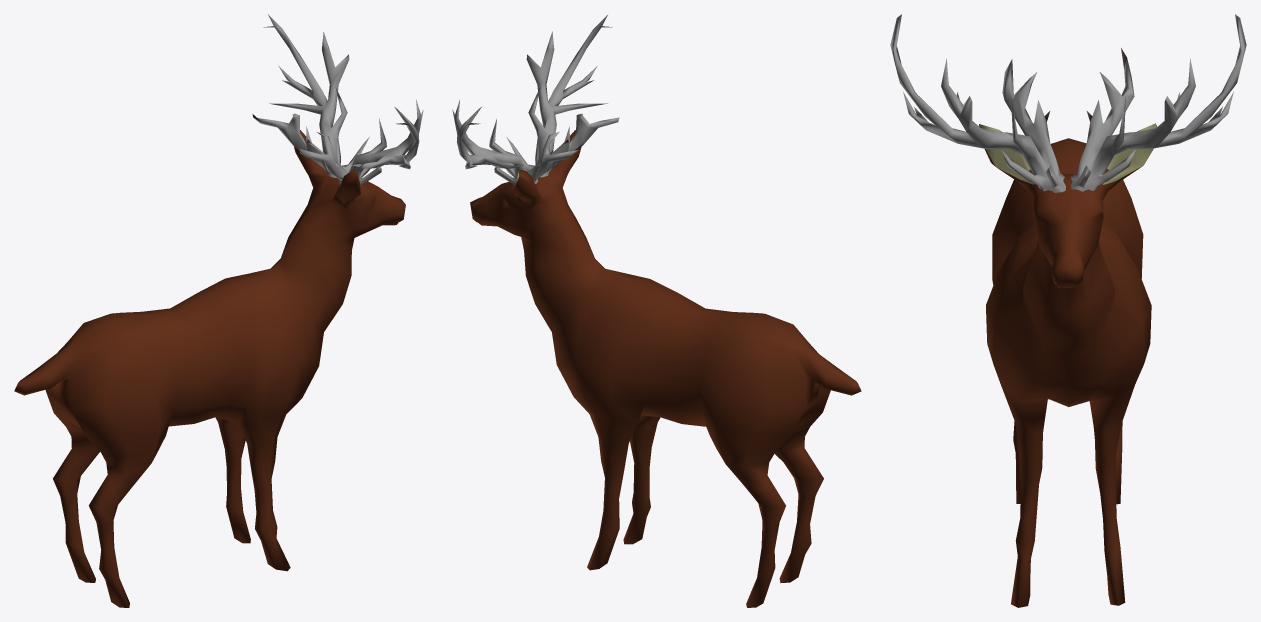
The model's file is deer.obj.
3 renders of one model, left to right at view 1: azimuth 30°, elevation 25°; view 2: azimuth 150°, elevation 25°; view 3: azimuth 270°, elevation 25°, orthographic. The views are drawn at different scales.
Visible parts, largest first — view 1: Mesh1 mesh_0_1 deer_obj1 Model, Mesh2 mesh_0_1 deer_obj1 Model, Mesh3 mesh_0_1 deer_obj1 Model; view 2: Mesh1 mesh_0_1 deer_obj1 Model, Mesh3 mesh_0_1 deer_obj1 Model, Mesh2 mesh_0_1 deer_obj1 Model; view 3: Mesh1 mesh_0_1 deer_obj1 Model, Mesh3 mesh_0_1 deer_obj1 Model, Mesh2 mesh_0_1 deer_obj1 Model.
Part boxes in pixels (bbox=[...]): Mesh1 mesh_0_1 deer_obj1 Model: bbox=[14, 130, 405, 607]; Mesh2 mesh_0_1 deer_obj1 Model: bbox=[252, 14, 369, 177]; Mesh3 mesh_0_1 deer_obj1 Model: bbox=[299, 99, 423, 185]; Mesh1 mesh_0_1 deer_obj1 Model: bbox=[470, 130, 861, 607]; Mesh3 mesh_0_1 deer_obj1 Model: bbox=[506, 15, 619, 177]; Mesh2 mesh_0_1 deer_obj1 Model: bbox=[452, 100, 583, 185]; Mesh1 mesh_0_1 deer_obj1 Model: bbox=[979, 123, 1156, 607]; Mesh3 mesh_0_1 deer_obj1 Model: bbox=[890, 14, 1065, 192]; Mesh2 mesh_0_1 deer_obj1 Model: bbox=[1070, 14, 1246, 191].
Bounding box in the file's own units: 1230 × 1447 × 738.
